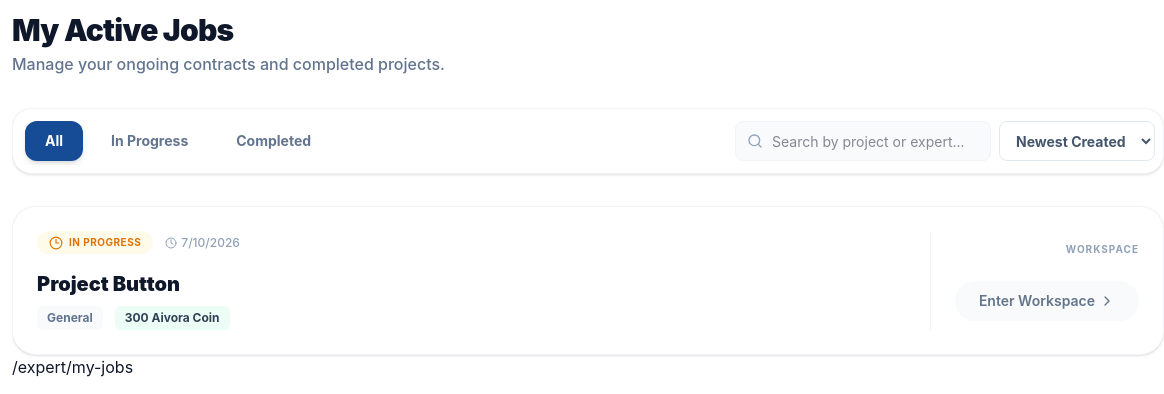
Test: ExpertMyJobsPage title navigation › preserves Enter Workspace button navigation
Step 1. Click the link "Enter Workspace" → coordinates (1047, 301), box [955, 281, 1139, 321]
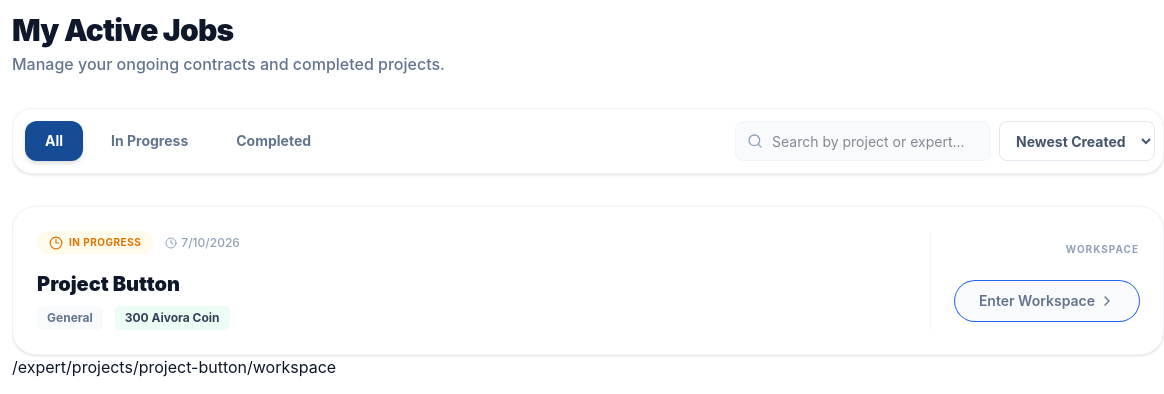
Expected: the text named "current path" reads "/expert/projects/project-button/workspace", [12, 357, 336, 377]
